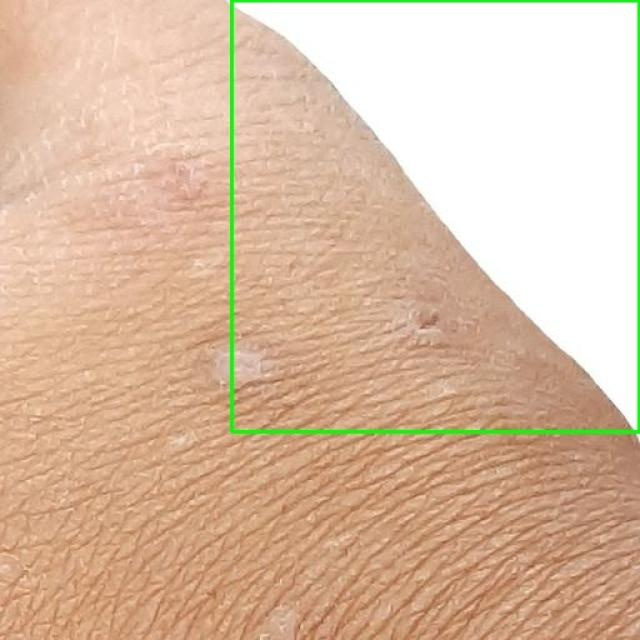Scabies: (231, 0, 639, 431)
